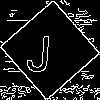J: (25, 25, 54, 73)
